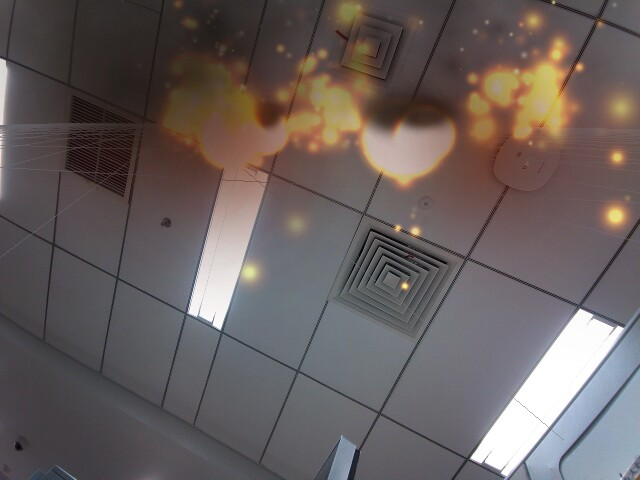fire: (359, 90, 459, 185), (397, 96, 459, 161), (247, 103, 292, 158)
